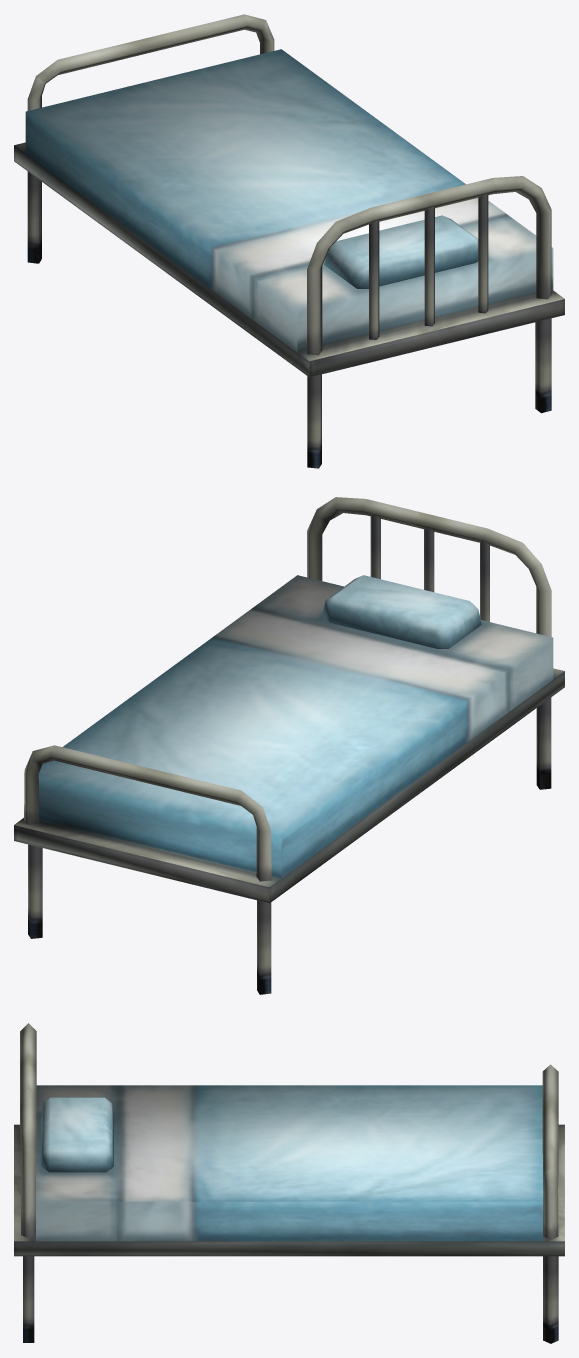
The model's file is a_SCbed01.glb.
3 renders of one model, top to bottom at view 1: azimuth 30°, elevation 25°; view 2: azimuth 150°, elevation 25°; view 3: azimuth 270°, elevation 25°, orthographic. The views are drawn at different scales.
Parts seen in each view (by area): view 1: a_SCbed01; view 2: a_SCbed01; view 3: a_SCbed01.
Part boxes in pixels (x1,y1,x2,y2): a_SCbed01: (14, 14, 564, 468); a_SCbed01: (14, 497, 564, 994); a_SCbed01: (14, 1023, 564, 1343).
Size of the model in its own units: 1 by 0.9134 by 2.
Materials: 1 (1 with a texture image).
